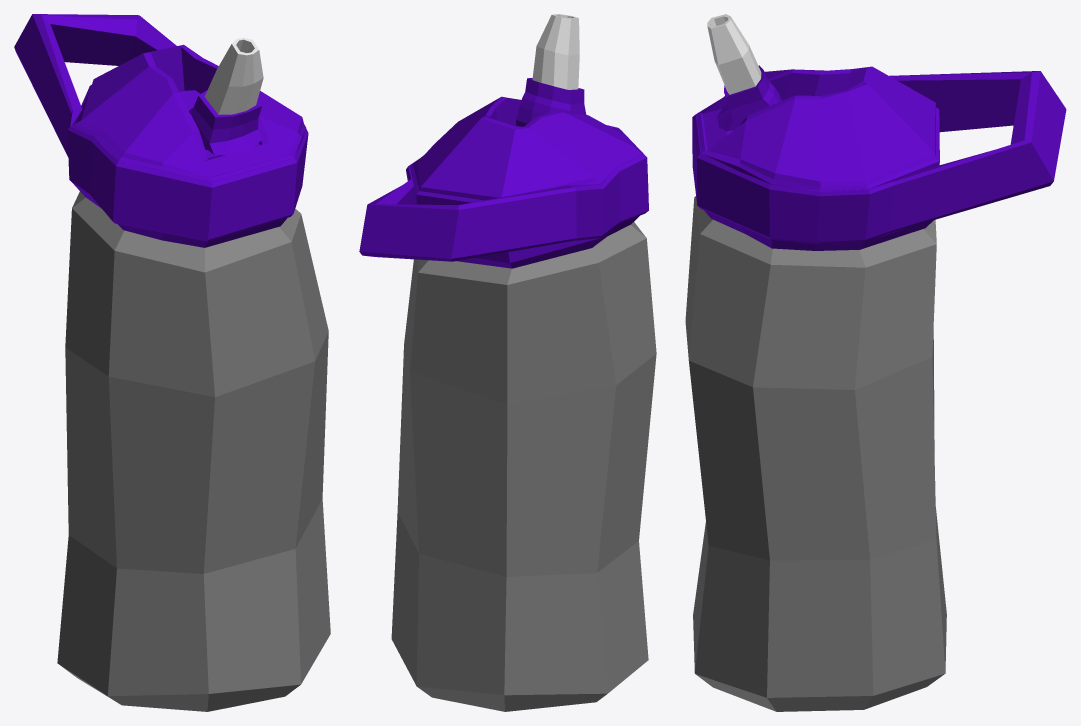
The model's file is Watter Bottle temp.fbx.
3 renders of one model, left to right at view 1: azimuth 30°, elevation 25°; view 2: azimuth 150°, elevation 25°; view 3: azimuth 270°, elevation 25°, orthographic. The views are drawn at different scales.
Visible parts, largest first — view 1: Bottle; view 2: Bottle; view 3: Bottle.
Part boxes in pixels (x1=…): Bottle: x1=14, y1=14, x2=330, y2=711; Bottle: x1=359, y1=14, x2=656, y2=711; Bottle: x1=685, y1=14, x2=1066, y2=711.
Size of the model in its own units: 57 by 158 by 83.9.
